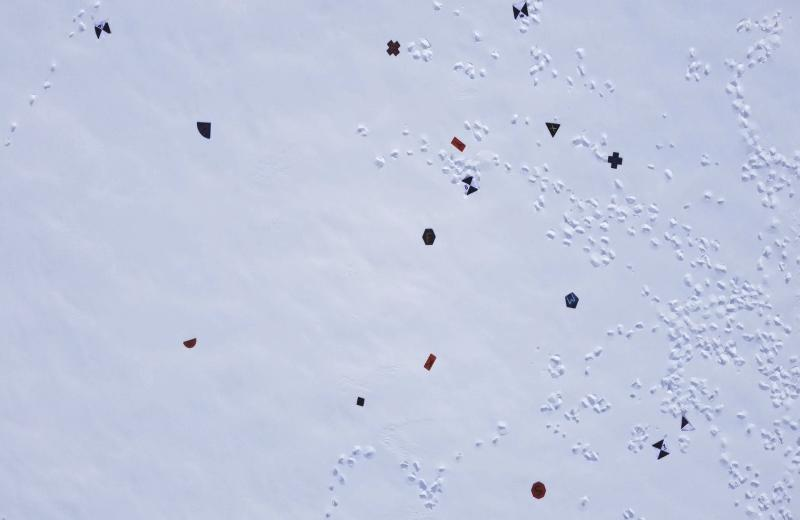Cross: (607, 150, 623, 171), (386, 38, 402, 58)
Hexagon: (423, 227, 436, 246)
Octagon: (531, 481, 547, 500)
Pentagon: (564, 291, 582, 310)
Quarter Circle: (196, 120, 214, 139)
Rectangle: (422, 351, 436, 372), (450, 136, 466, 154)
Semi Circle: (182, 336, 198, 348)
Square: (357, 396, 365, 407)
Triangle: (543, 122, 561, 140)
